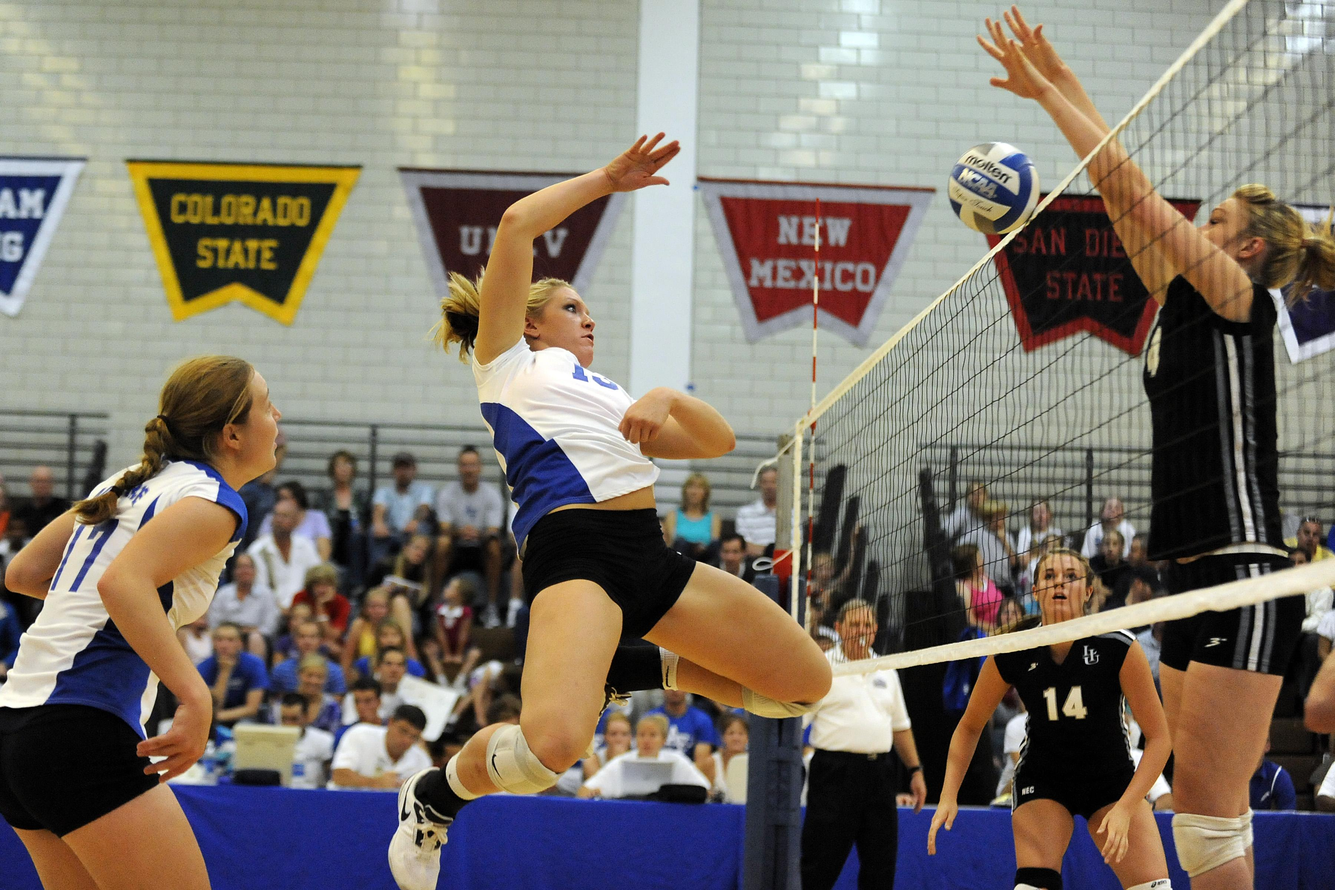ballon_volley: (947, 141, 1039, 236)
